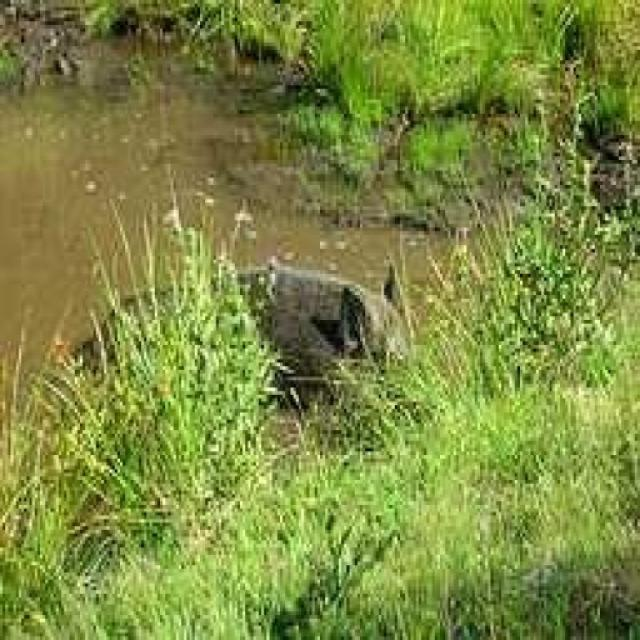pig: (78, 236, 432, 425)
